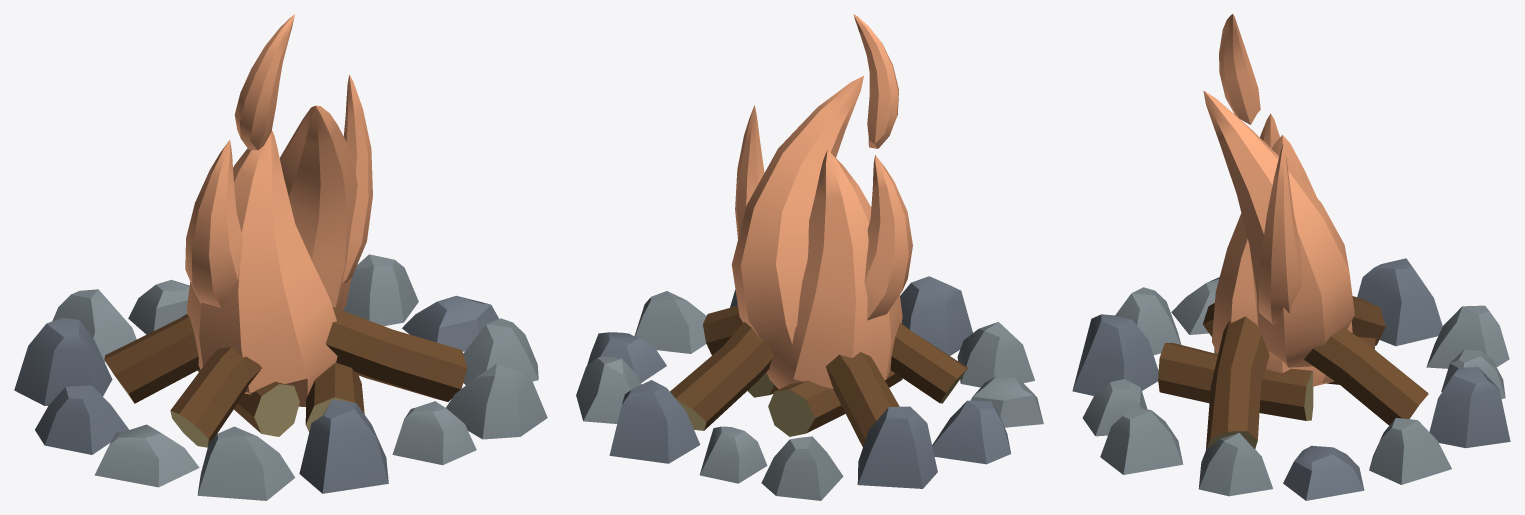
The model's file is quaternius_cc0-bonfire-728.glb.
The picture shows the model from 3 angles, left to right: view 1: azimuth 30°, elevation 25°; view 2: azimuth 150°, elevation 25°; view 3: azimuth 270°, elevation 25°; orthographic projection. The views are drawn at different scales.
Parts seen in each view (by area): view 1: Bonfire_Lit; view 2: Bonfire_Lit; view 3: Bonfire_Lit.
Part boxes in pixels (x1,y1,x2,y2): Bonfire_Lit: (14, 14, 547, 500); Bonfire_Lit: (576, 14, 1043, 500); Bonfire_Lit: (1072, 14, 1510, 500).
Bounding box in the file's own units: 4.07 × 3.53 × 3.62.
